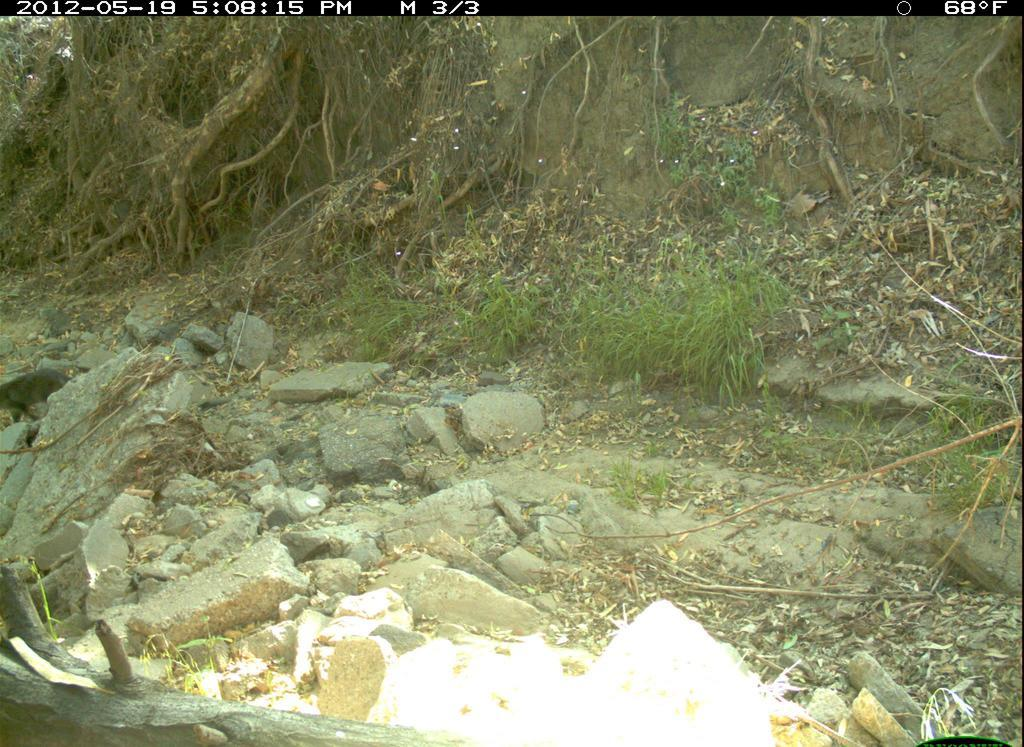cat: (3, 359, 93, 436)
